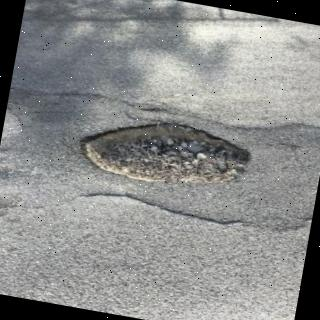pothole: (80, 122, 251, 186)
